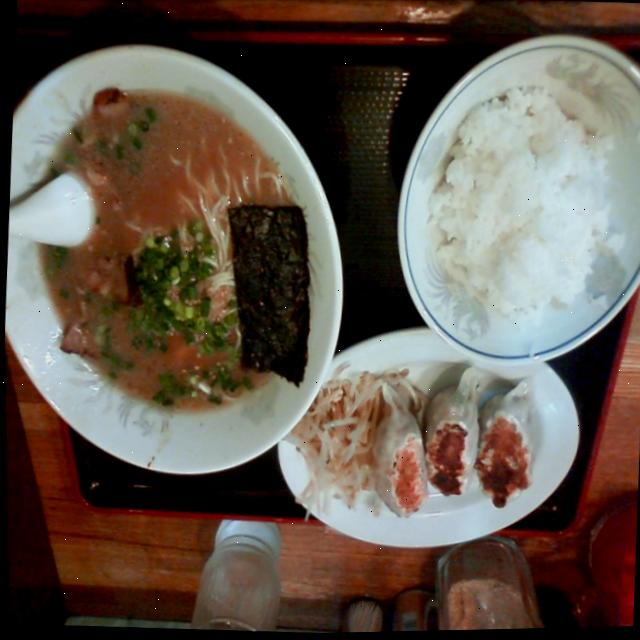带馅早点: (340, 351, 561, 556)
米饭主食: (419, 71, 640, 353)
